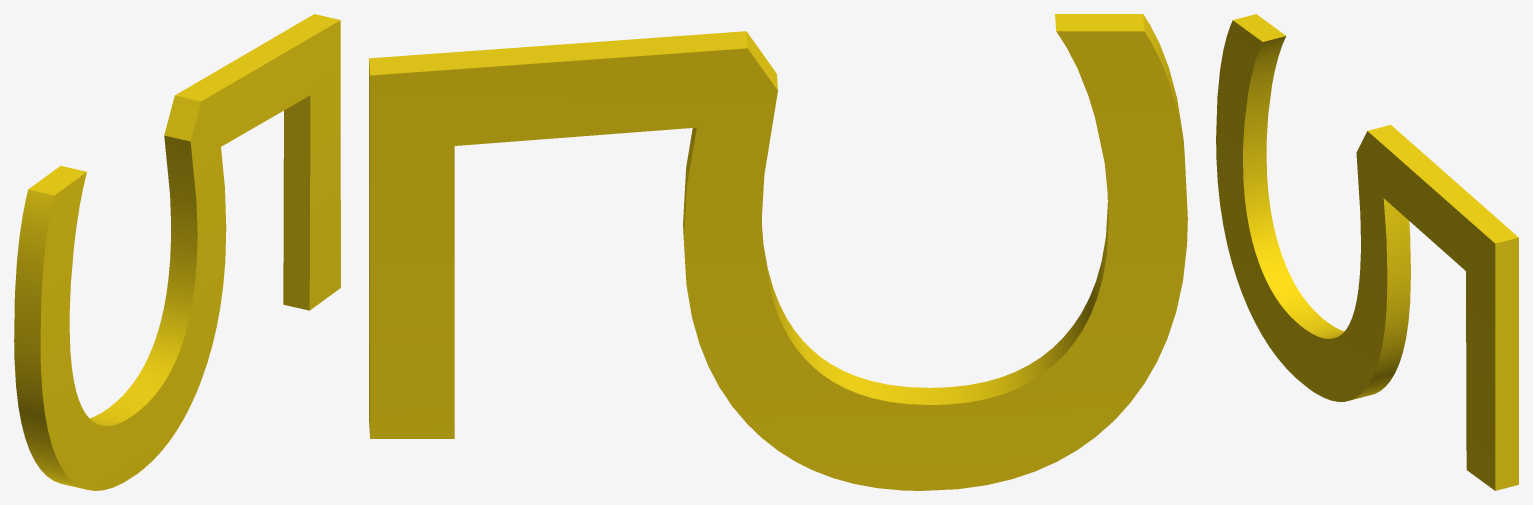
The model's file is Number_5.gltf.
3 views of the same model, side by side, from view 1: azimuth 30°, elevation 25°; view 2: azimuth 150°, elevation 25°; view 3: azimuth 270°, elevation 25° (orthographic). The views are drawn at different scales.
Visible parts, largest first — view 1: Sub_1_Cell_1_2_Number_5; view 2: Sub_1_Cell_1_2_Number_5; view 3: Sub_1_Cell_1_2_Number_5.
Part boxes in pixels (left/top/right/bottom): Sub_1_Cell_1_2_Number_5: left=14, top=14, right=340, bottom=490; Sub_1_Cell_1_2_Number_5: left=369, top=14, right=1187, bottom=490; Sub_1_Cell_1_2_Number_5: left=1216, top=14, right=1518, bottom=490.
Bounding box in the file's own units: 0.0228 × 0.0158 × 0.0139.
